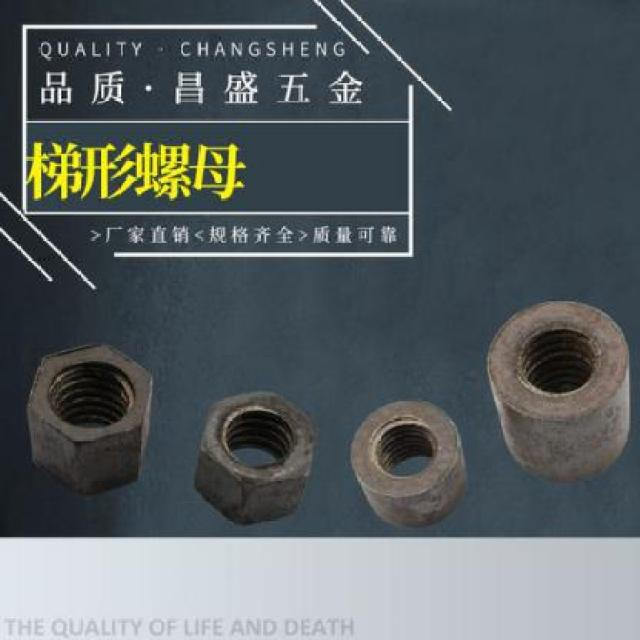Nut: (485, 297, 630, 481), (25, 340, 158, 497), (190, 388, 314, 527), (346, 396, 466, 527)
